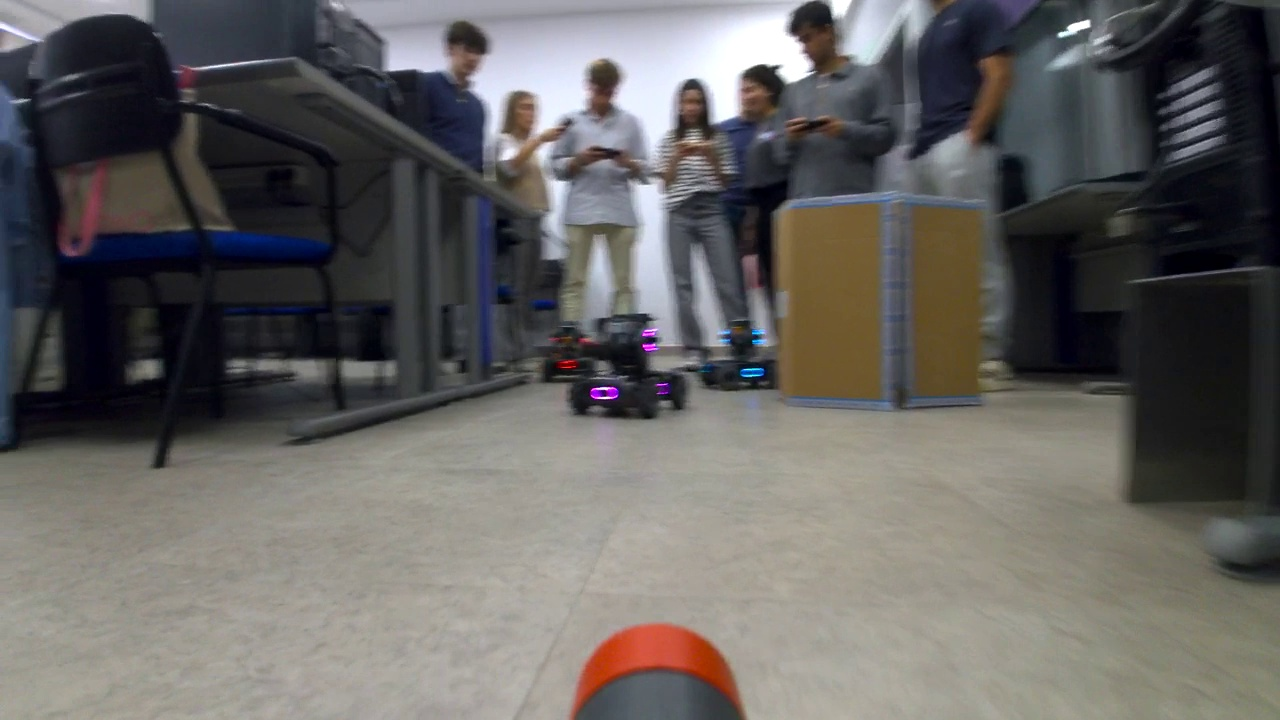robot: (569, 312, 687, 417), (701, 318, 775, 390), (537, 326, 602, 381)
